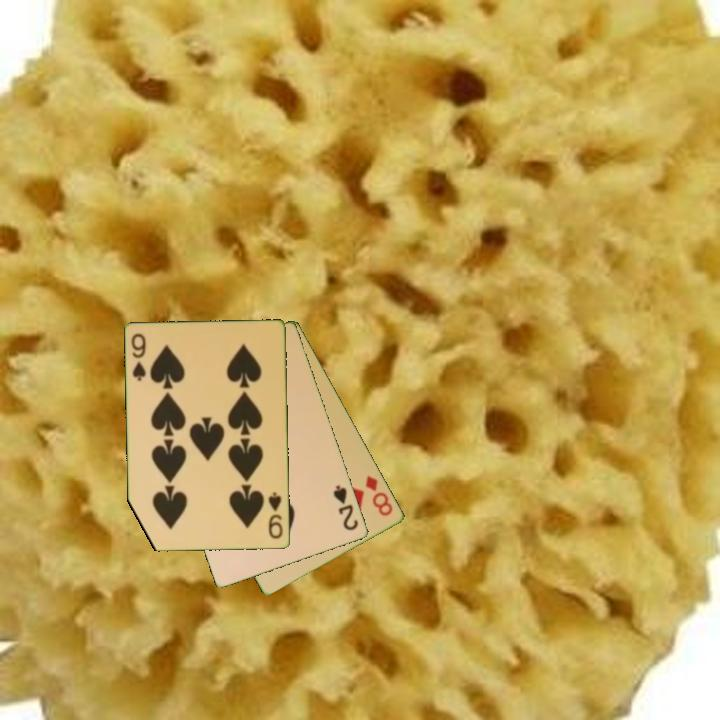2s: (330, 482, 361, 534)
8d: (362, 472, 396, 519)
9s: (128, 330, 149, 384), (265, 489, 286, 542)
